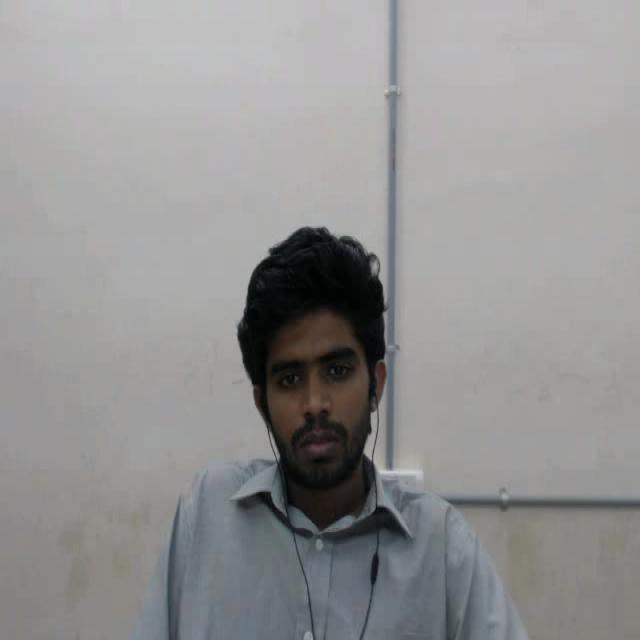Engaged: (221, 218, 424, 496)
